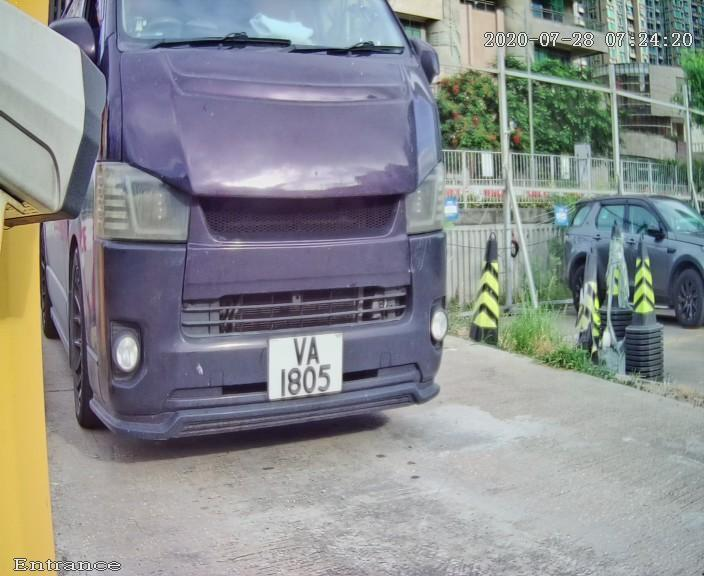privatecar: (26, 6, 513, 466)
